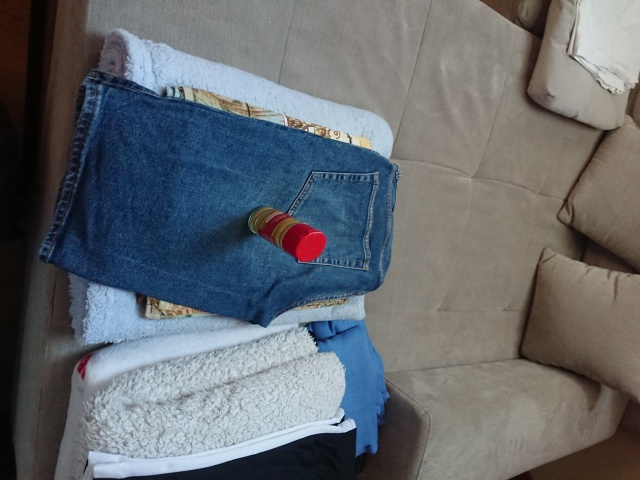Kotanyi Curry Spices Mix 70g: (246, 203, 328, 264)
